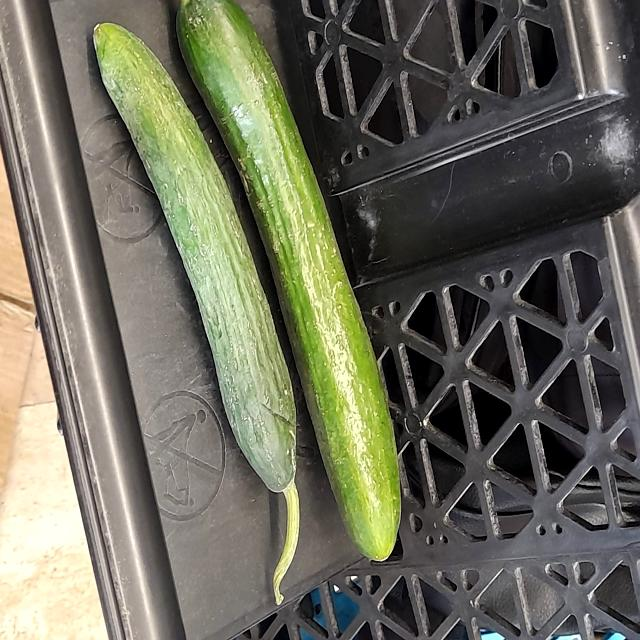cucumber: (178, 1, 404, 569), (86, 17, 303, 529)
